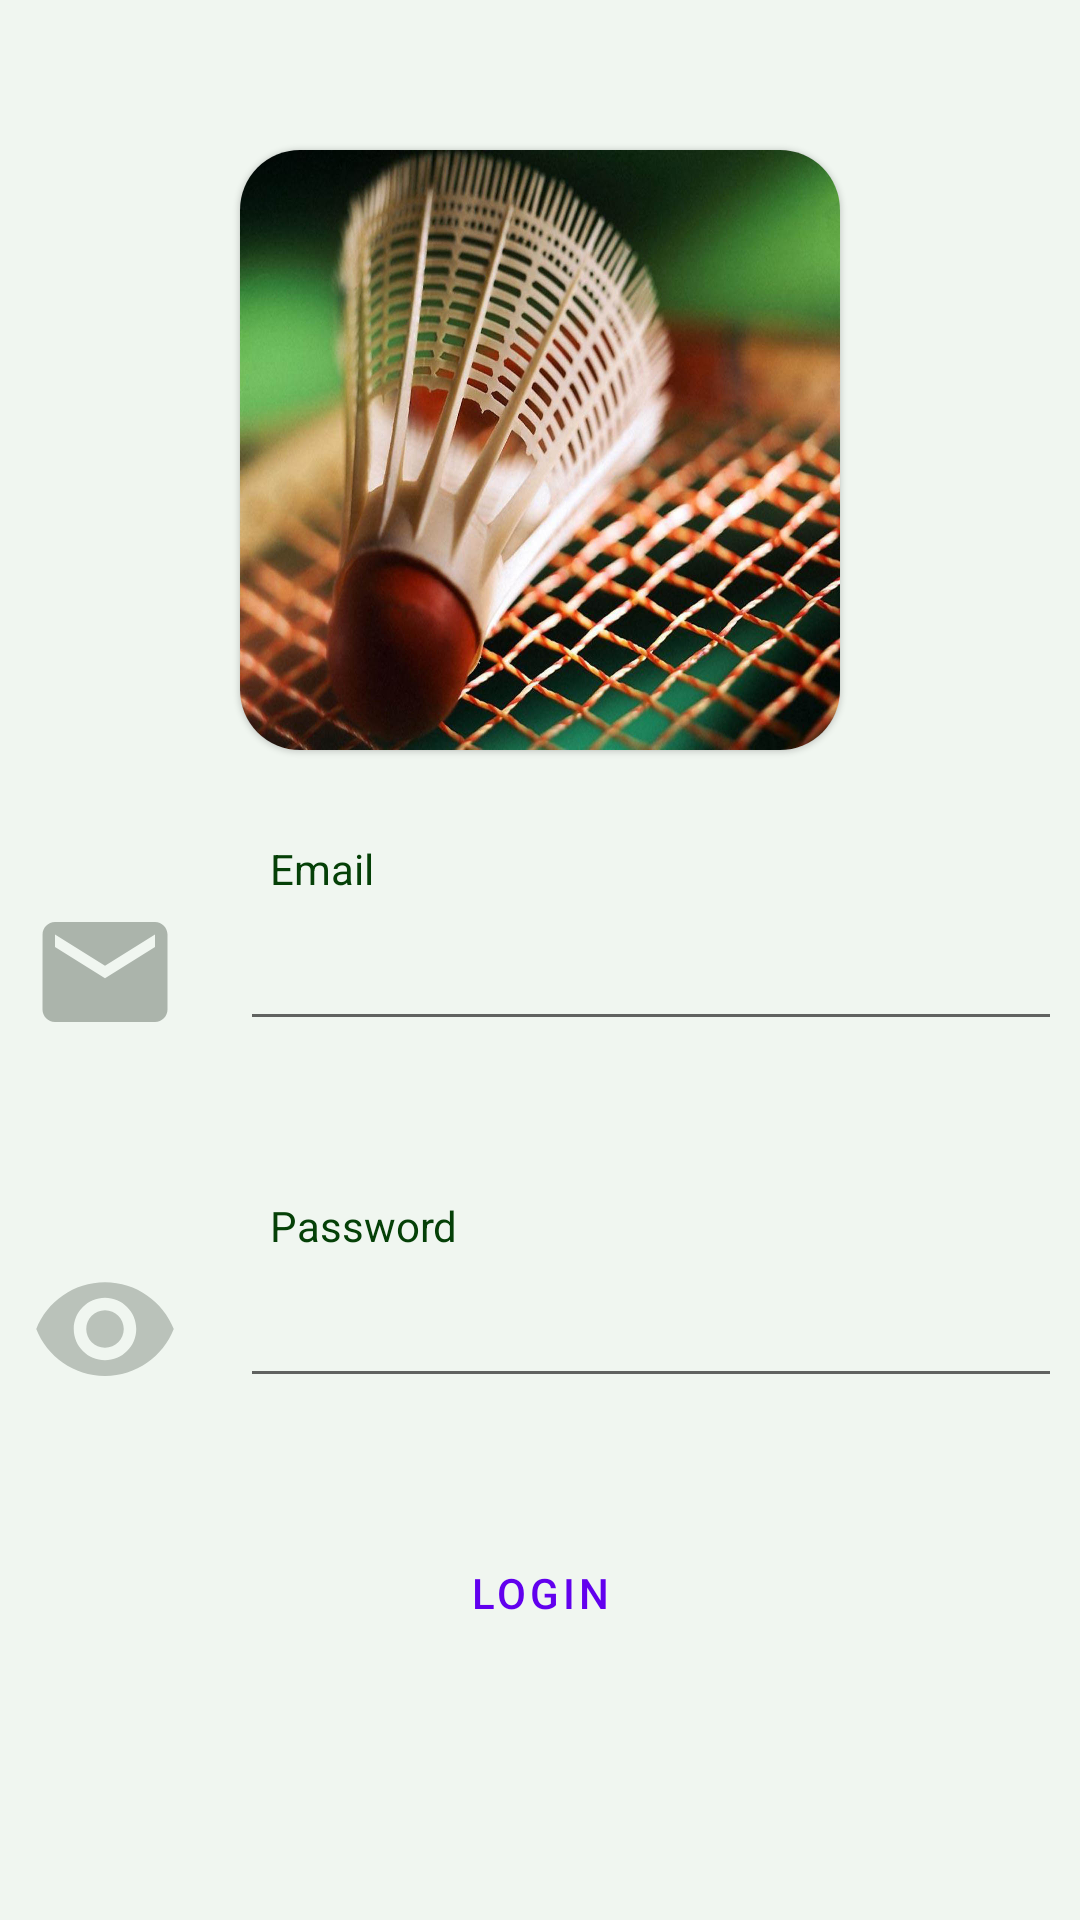

Icon bounding boxes for this 1080w x 1920h phone screenshot, format (x1, y1, x2, y2):
eye: (36, 1282, 174, 1376)
